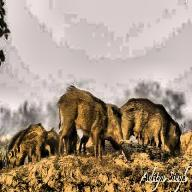boar: (120, 88, 192, 162), (66, 76, 124, 163), (13, 110, 68, 172)
